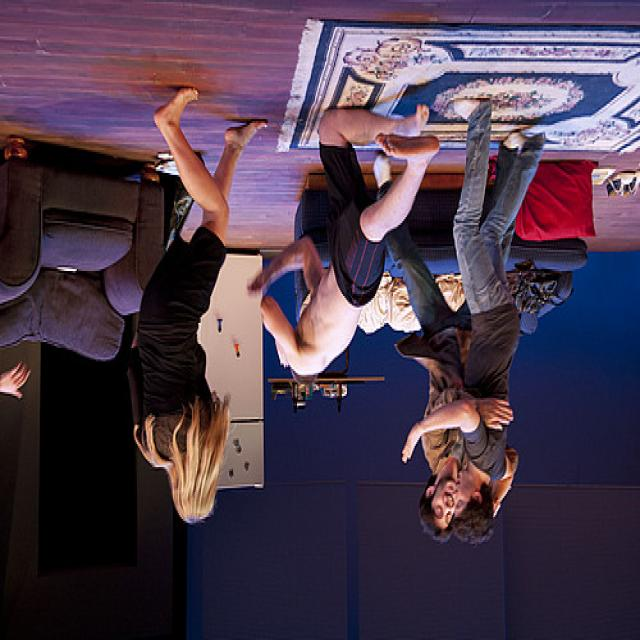fight: (415, 311, 538, 548)
nofight: (110, 70, 258, 528), (259, 80, 421, 398)
